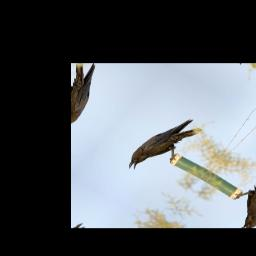Crow: (121, 105, 207, 185)
